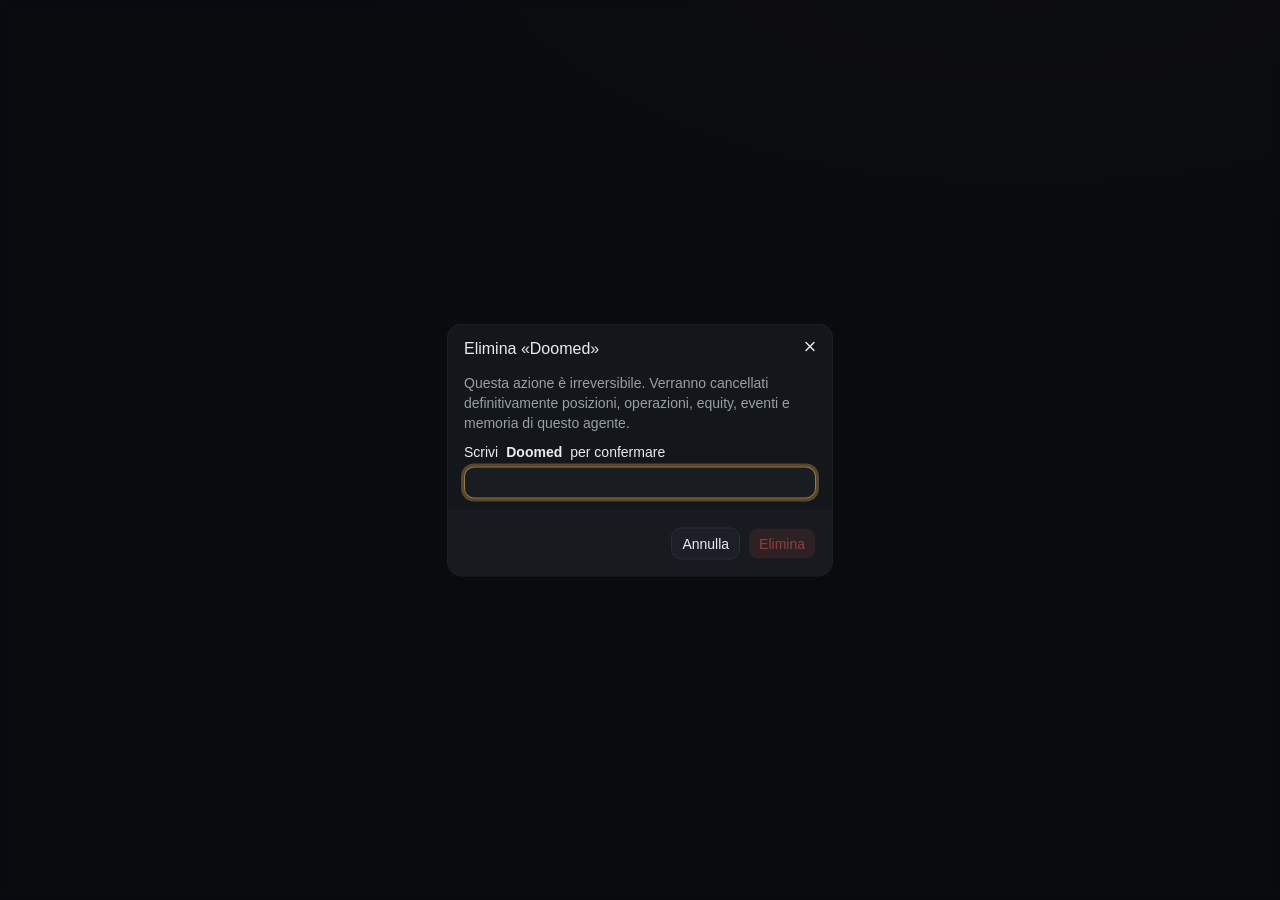
Scenario: ConfirmDeleteModal › keeps confirm disabled until the exact name is typed
Expected: the button "Elimina" is disabled, x1=748 y1=528 x2=816 y2=560
Type "Doom" into the field labelled "Scrivi Doomed per confermare" at {"x": 640, "y": 482}, box x1=464 y1=466 x2=816 y2=498
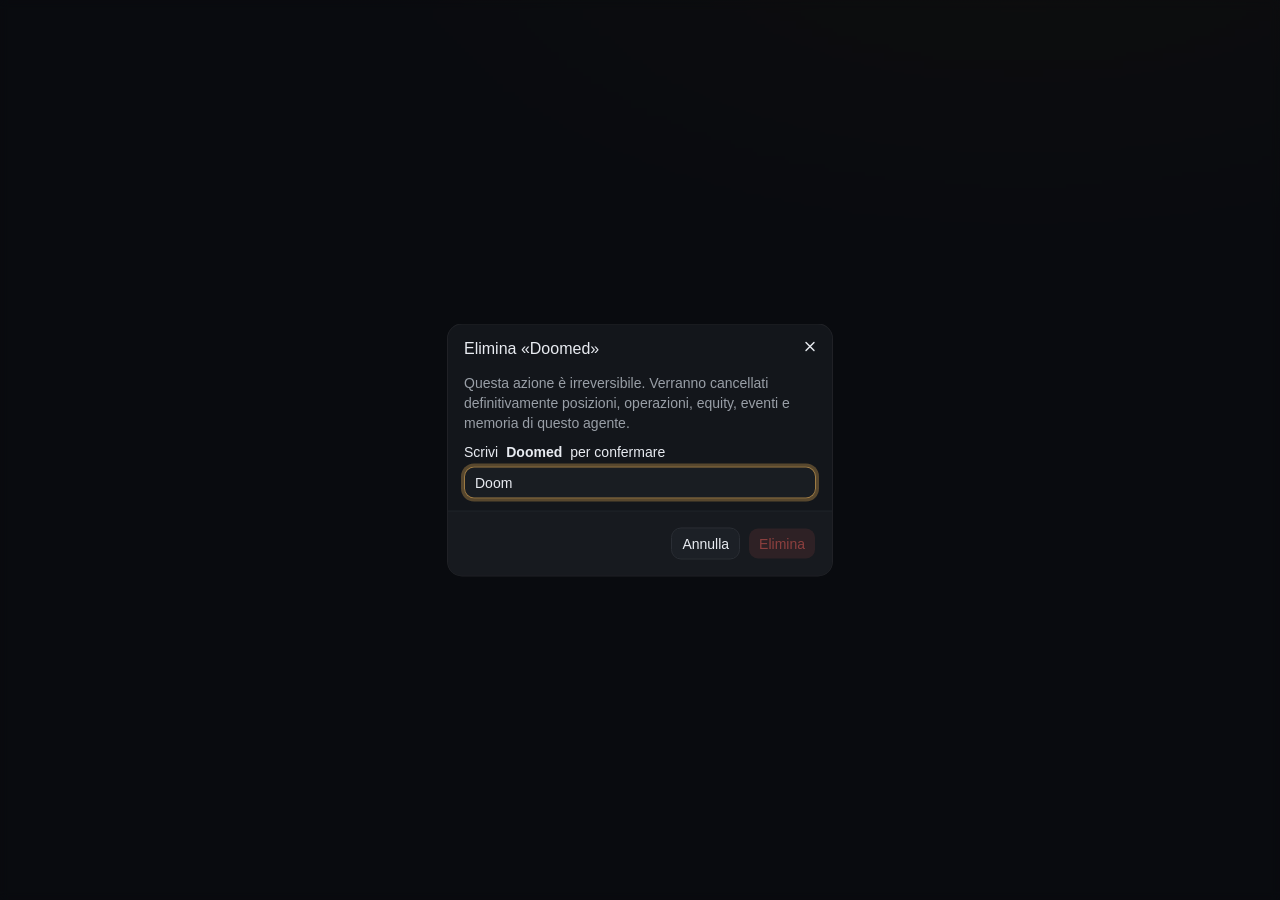
Expected: the button "Elimina" is disabled, x1=748 y1=528 x2=816 y2=560
Replace the text in the field labelled "Scrivi Doomed per confermare" with "Doomed" at {"x": 640, "y": 482}, box x1=464 y1=466 x2=816 y2=498
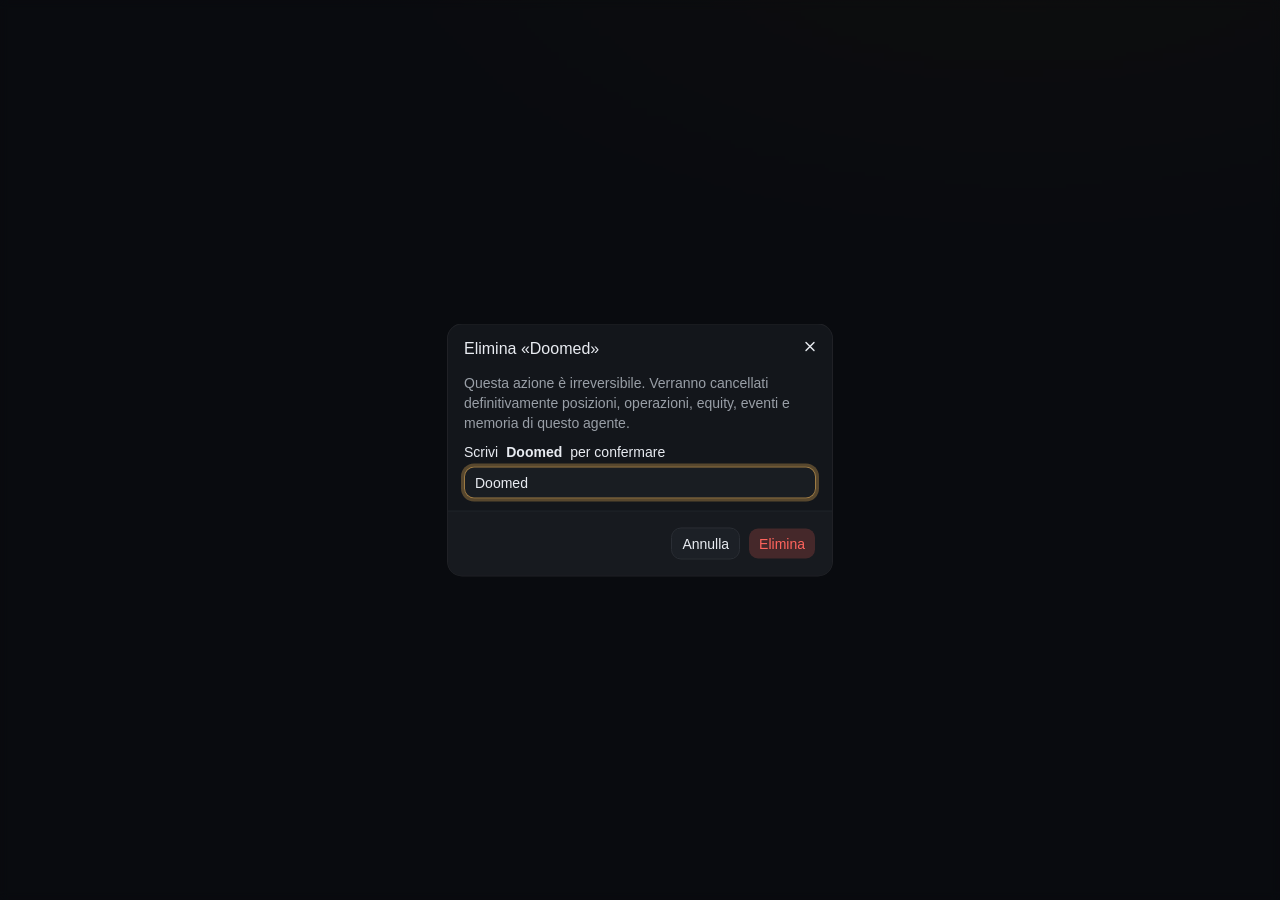
Expected: the button "Elimina" is enabled, x1=748 y1=528 x2=816 y2=560
